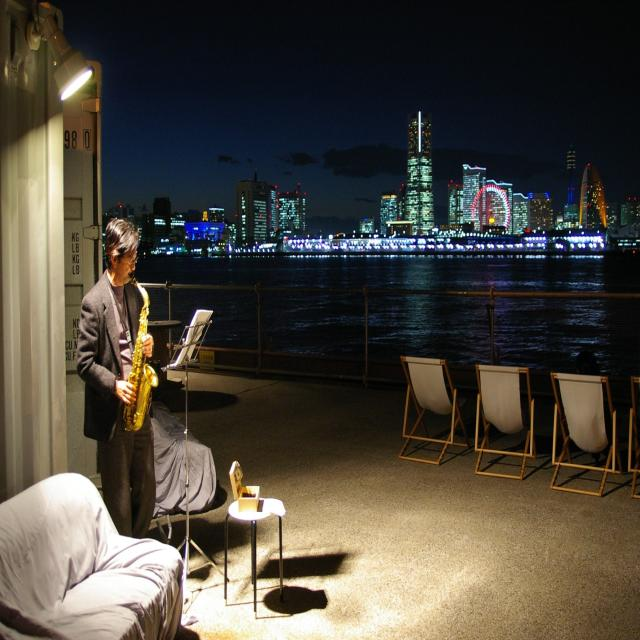saxophone: (122, 268, 159, 435)
